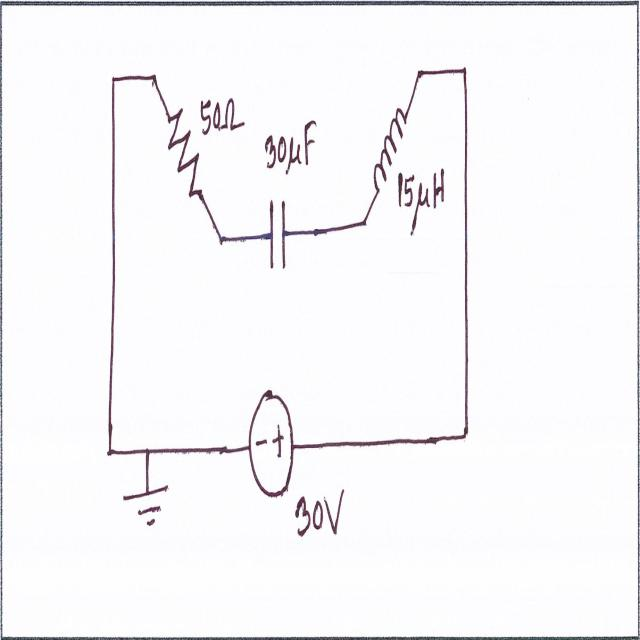capacitor: (263, 177, 292, 271)
ground: (121, 477, 171, 533)
inductor: (366, 106, 406, 200)
resistor: (163, 105, 202, 219)
voltage_source: (246, 388, 296, 502)
